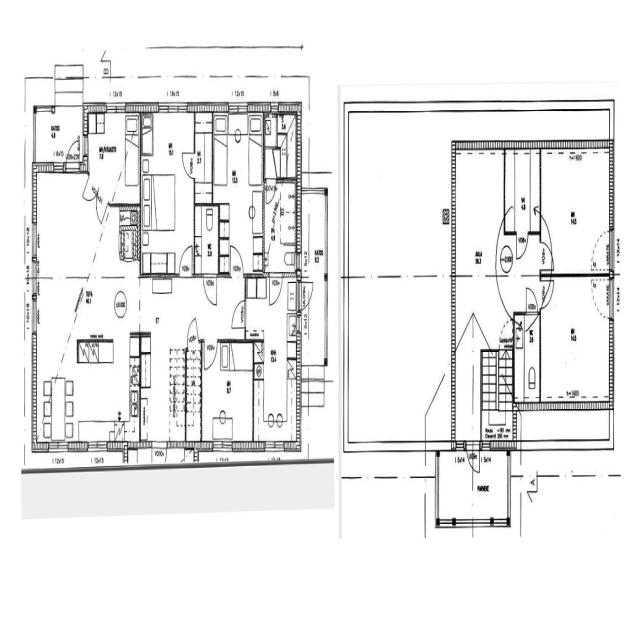door: (590, 276, 612, 318), (590, 226, 611, 269), (202, 269, 218, 308), (230, 296, 248, 330), (178, 240, 194, 274), (268, 270, 283, 306), (65, 134, 80, 170), (298, 277, 314, 309), (203, 336, 218, 370), (540, 270, 555, 304), (539, 237, 554, 271), (180, 149, 196, 180), (229, 240, 244, 273), (524, 283, 538, 316), (466, 442, 480, 474), (515, 230, 529, 260), (186, 314, 200, 344), (264, 176, 277, 204)
window: (551, 263, 595, 281), (86, 436, 108, 456), (264, 435, 285, 453), (227, 97, 249, 114), (151, 438, 168, 460), (160, 99, 184, 114), (31, 218, 39, 262), (104, 99, 126, 114), (50, 436, 68, 453), (31, 296, 39, 334), (213, 437, 233, 452), (609, 227, 616, 268), (52, 159, 67, 177)
zone: (342, 107, 446, 279), (41, 336, 139, 442), (539, 274, 612, 407), (141, 109, 194, 271), (540, 152, 611, 272), (250, 280, 298, 442), (213, 110, 264, 252), (452, 152, 506, 274), (33, 171, 93, 278), (200, 339, 255, 447), (86, 112, 141, 209), (264, 178, 298, 274), (503, 151, 541, 235), (515, 310, 540, 402), (266, 114, 298, 179), (194, 201, 219, 275), (193, 122, 213, 196), (590, 225, 611, 269)
